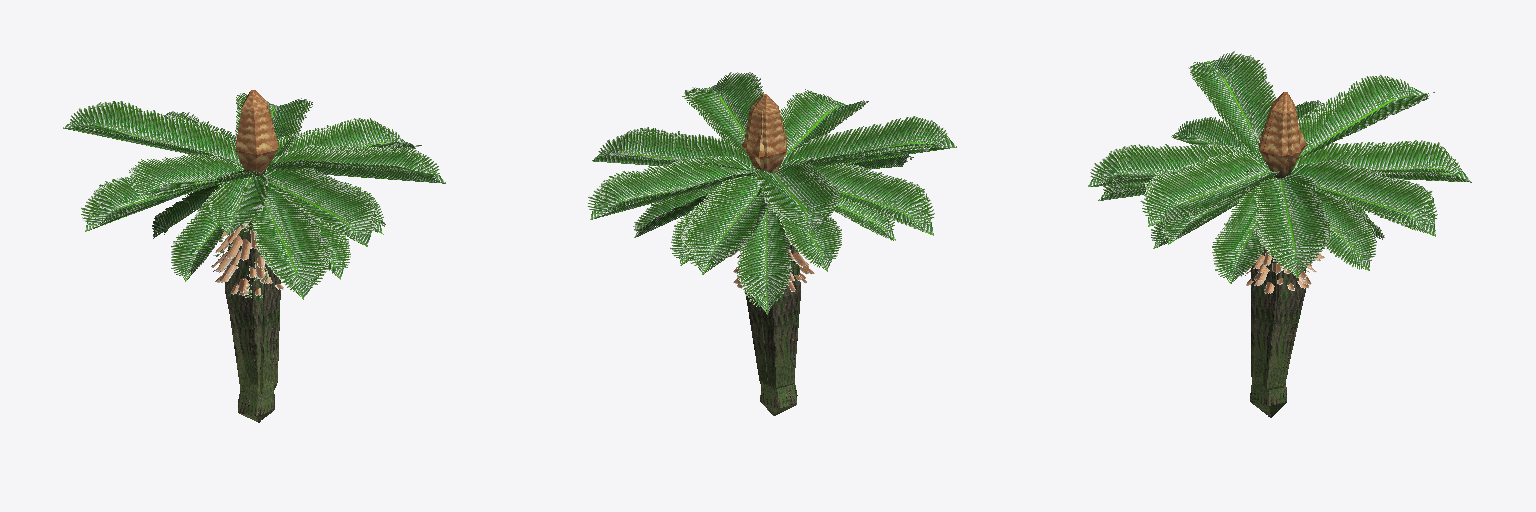
3 renders of one model, left to right at view 1: azimuth 30°, elevation 25°; view 2: azimuth 150°, elevation 25°; view 3: azimuth 270°, elevation 25°, orthographic.
Visible parts, largest first — view 1: Plane03, Plane04, Editable_Mesh.002, Plane05, Editable_Mesh.001, Editable_Mesh.005, Cone01, Cone02, Cone03; view 2: Plane03, Plane04, Plane05, Editable_Mesh.004, Editable_Mesh.001, Editable_Mesh.002; view 3: Plane03, Plane04, Editable_Mesh.002, Plane05, Editable_Mesh.001, Editable_Mesh.004.
Boxes of the visible parts, box(x1,y1,x2,y2) form: Plane03: box(69, 95, 439, 292); Plane04: box(72, 93, 432, 283); Editable_Mesh.002: box(225, 221, 279, 422); Plane05: box(63, 93, 445, 299); Editable_Mesh.001: box(236, 90, 277, 176); Editable_Mesh.005: box(227, 240, 280, 422); Cone01: box(218, 221, 278, 297); Cone02: box(211, 221, 283, 297); Cone03: box(213, 232, 267, 294); Plane03: box(587, 72, 949, 306); Plane04: box(596, 74, 945, 298); Plane05: box(590, 72, 956, 314); Editable_Mesh.004: box(745, 250, 800, 389); Editable_Mesh.001: box(746, 94, 787, 172); Editable_Mesh.002: box(760, 212, 799, 415); Plane03: box(1090, 51, 1469, 278); Plane04: box(1099, 56, 1459, 270); Editable_Mesh.002: box(1250, 177, 1305, 417); Plane05: box(1088, 55, 1471, 283); Editable_Mesh.001: box(1259, 92, 1300, 178); Editable_Mesh.004: box(1252, 269, 1305, 392).
Size of the model in its own units: 5.63 by 5.21 by 5.58.
12 materials, 2 textured.